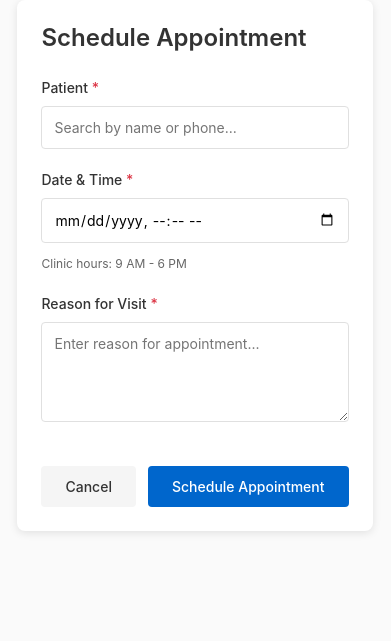
Test: ScheduleAppointmentForm › Reason Input › should clear reason error when typing
// Submit to trigger validation
Click the button "Schedule Appointment".
click(248, 486)  # box [148,466,349,507]
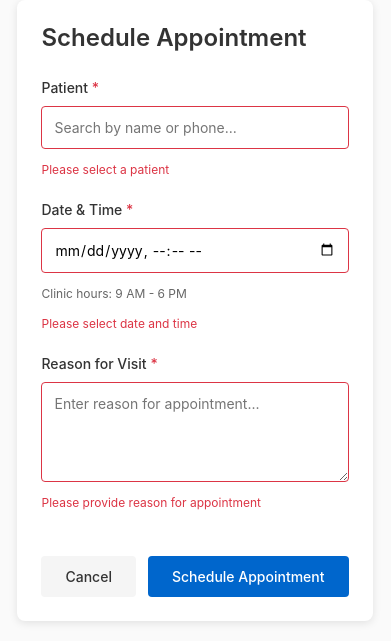
Expected: the text "Please provide reason for appointment" is shown, [42,495,261,510]
// Type in reason
Type "Annual checkup" into the text box with placeholder "Enter reason for appointment...".
click(195, 432); type("Annual checkup")  # box [42,382,349,482]
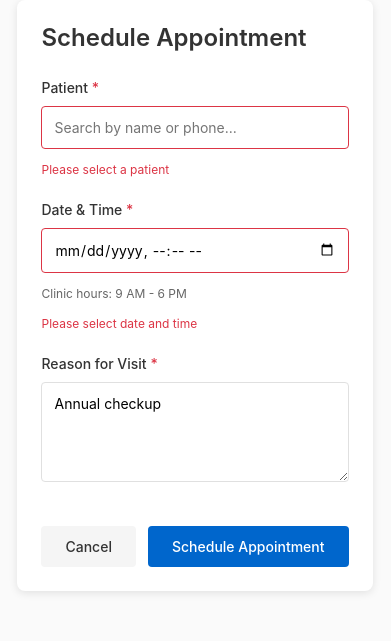
Expected: the text "Please provide reason for appointment" is gone
